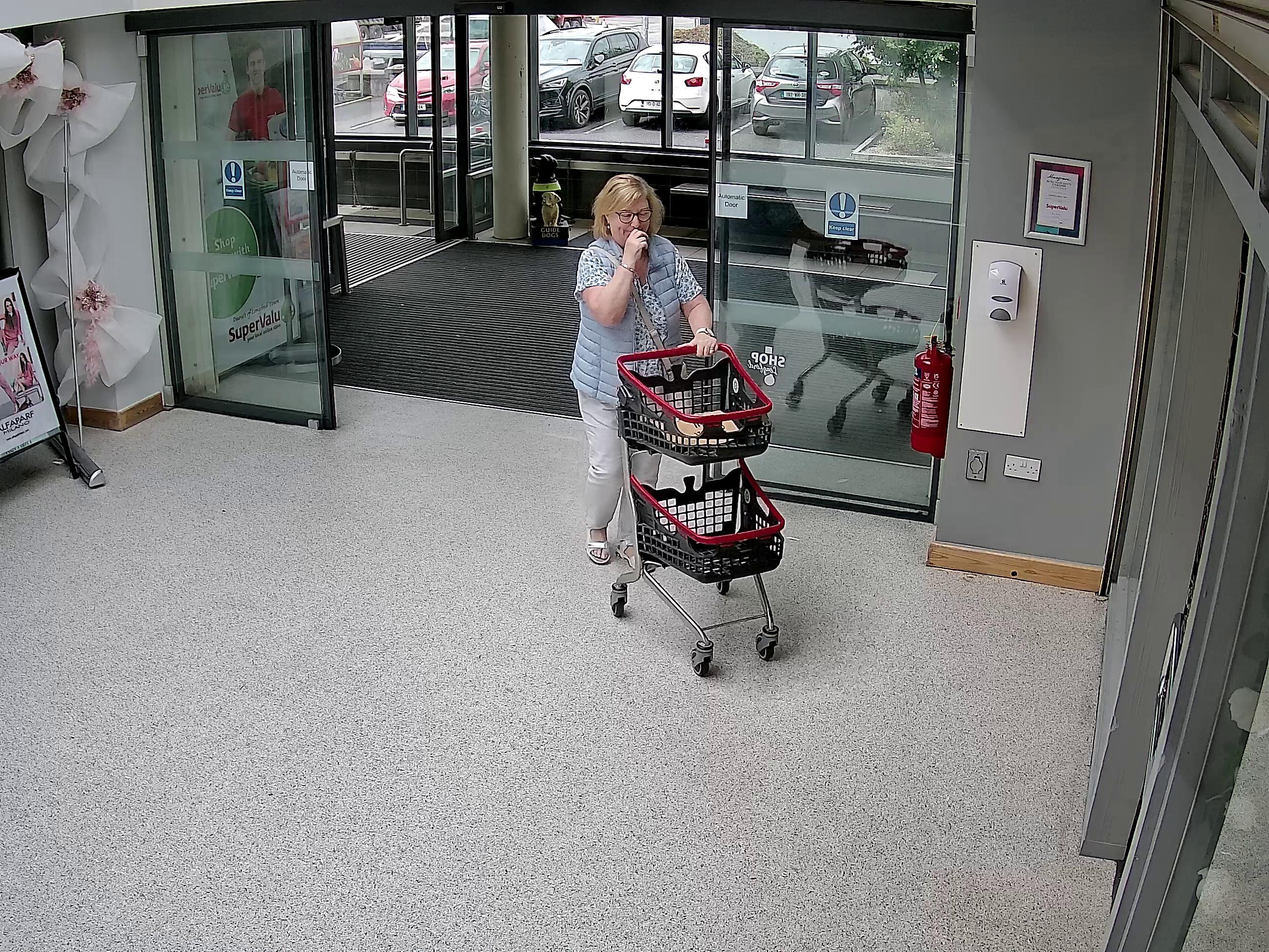empty-trolly: (609, 341, 785, 675)
person: (571, 173, 718, 566)
person-with-empty-basket-trolly: (571, 170, 787, 675)
